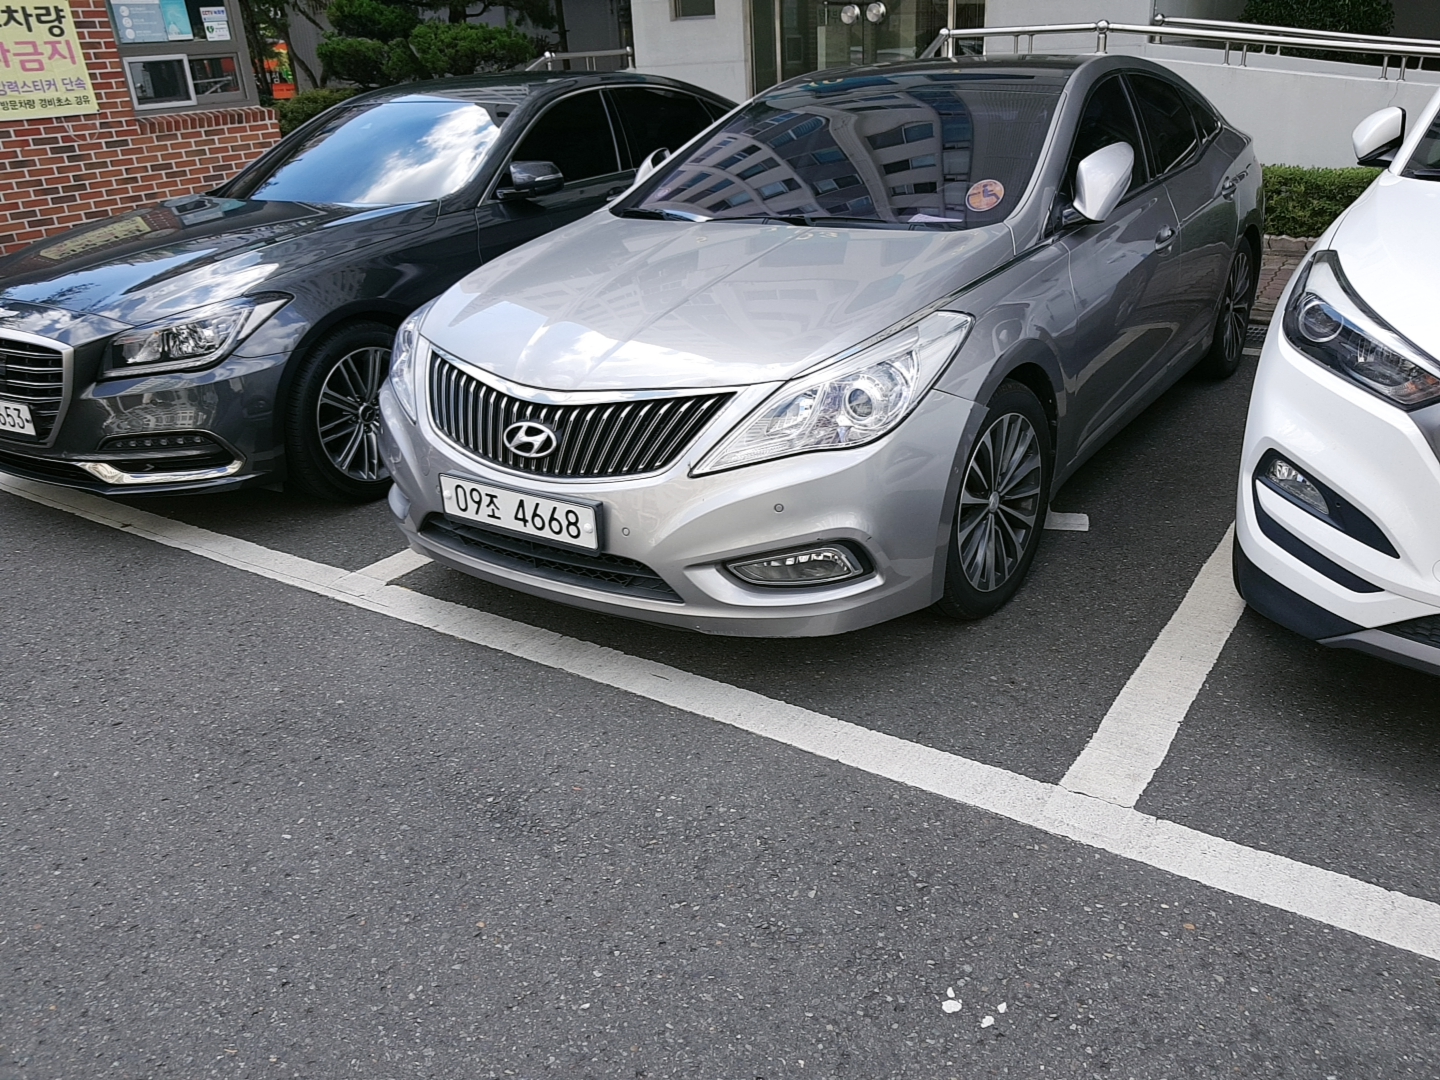disabled_parking: (962, 176, 1007, 216)
